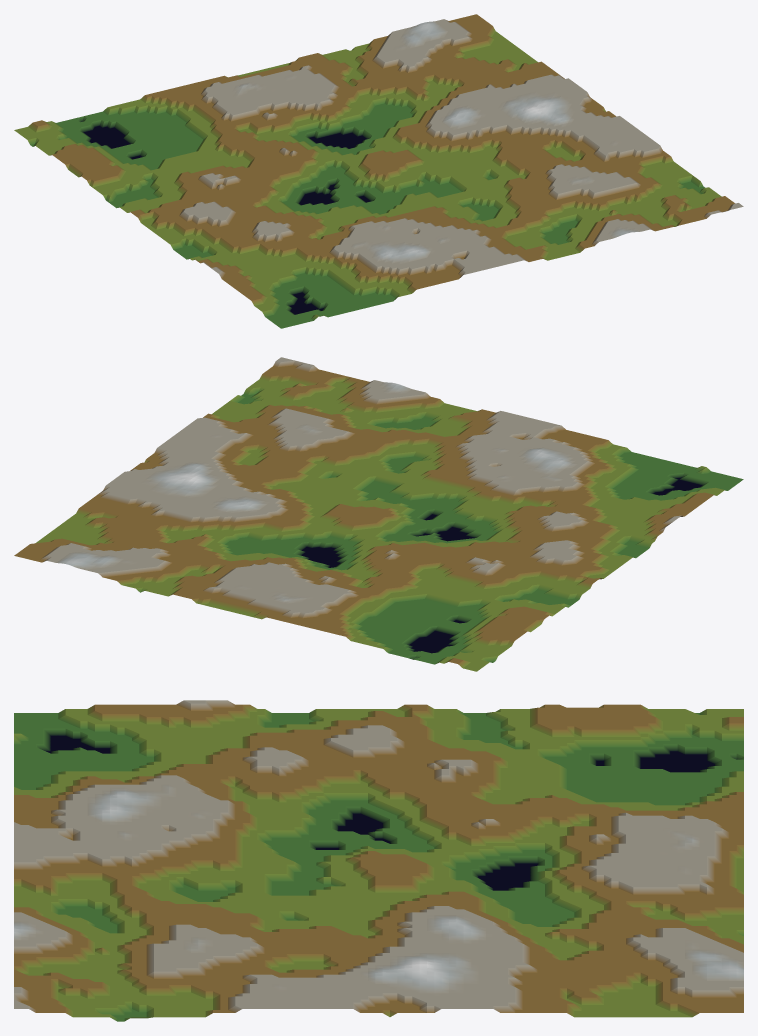
File: terrain_lowpoly_1.obj
3 views of the same model, one above another, from view 1: azimuth 30°, elevation 25°; view 2: azimuth 150°, elevation 25°; view 3: azimuth 270°, elevation 25° (orthographic). The views are drawn at different scales.
Visible parts, largest first — view 1: Heightmap; view 2: Heightmap; view 3: Heightmap.
Boxes of the visible parts, left/top/right/bottom form: Heightmap: left=14, top=14, right=743, bottom=328; Heightmap: left=14, top=357, right=743, bottom=671; Heightmap: left=14, top=700, right=743, bottom=1021.
Bounding box in the file's own units: 99 × 3.14 × 99.
